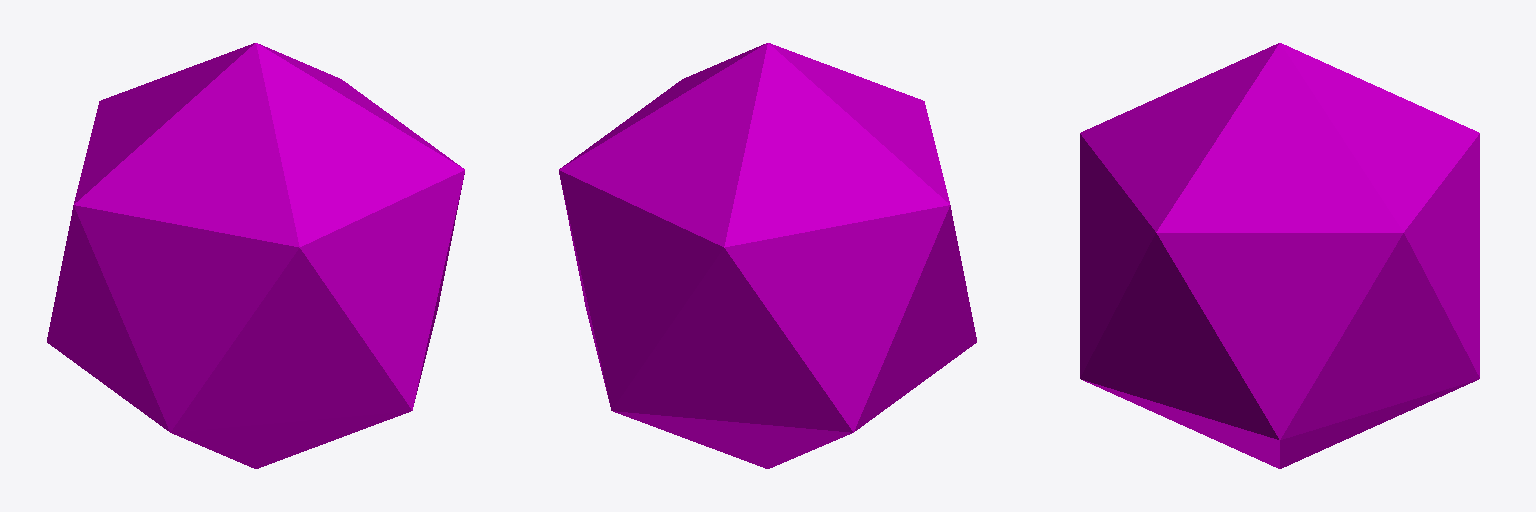
File: point.obj
The picture shows the model from 3 angles: view 1: azimuth 30°, elevation 25°; view 2: azimuth 150°, elevation 25°; view 3: azimuth 270°, elevation 25°; orthographic projection.
Parts seen in each view (by area): view 1: Icosphere; view 2: Icosphere; view 3: Icosphere.
Part boxes in pixels (x1,y1,x2,y2): Icosphere: (47, 43, 464, 468); Icosphere: (559, 43, 976, 468); Icosphere: (1080, 43, 1479, 468).
Size of the model in its own units: 0.0894 by 0.1 by 0.0851.